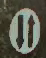Two way: (6, 3, 43, 52)
